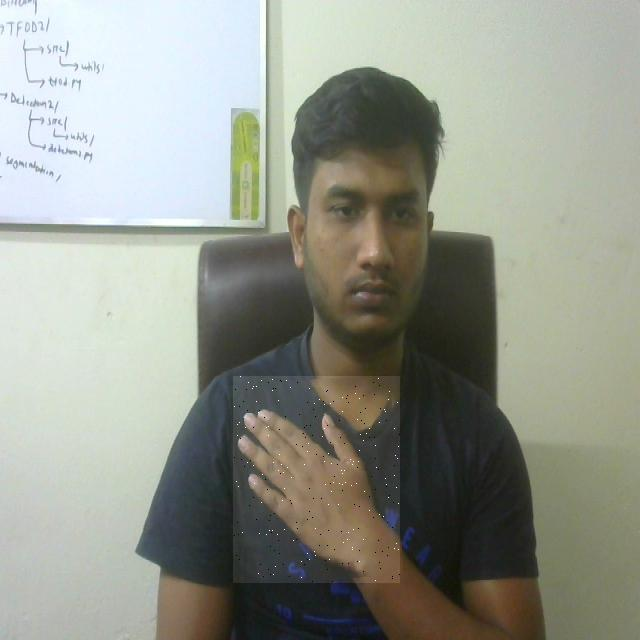Please: (233, 376, 400, 583)
